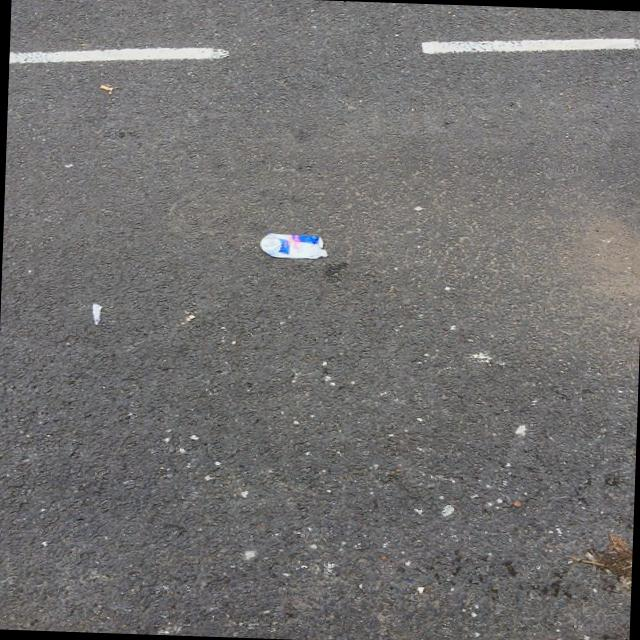Trash: (246, 224, 352, 267)
